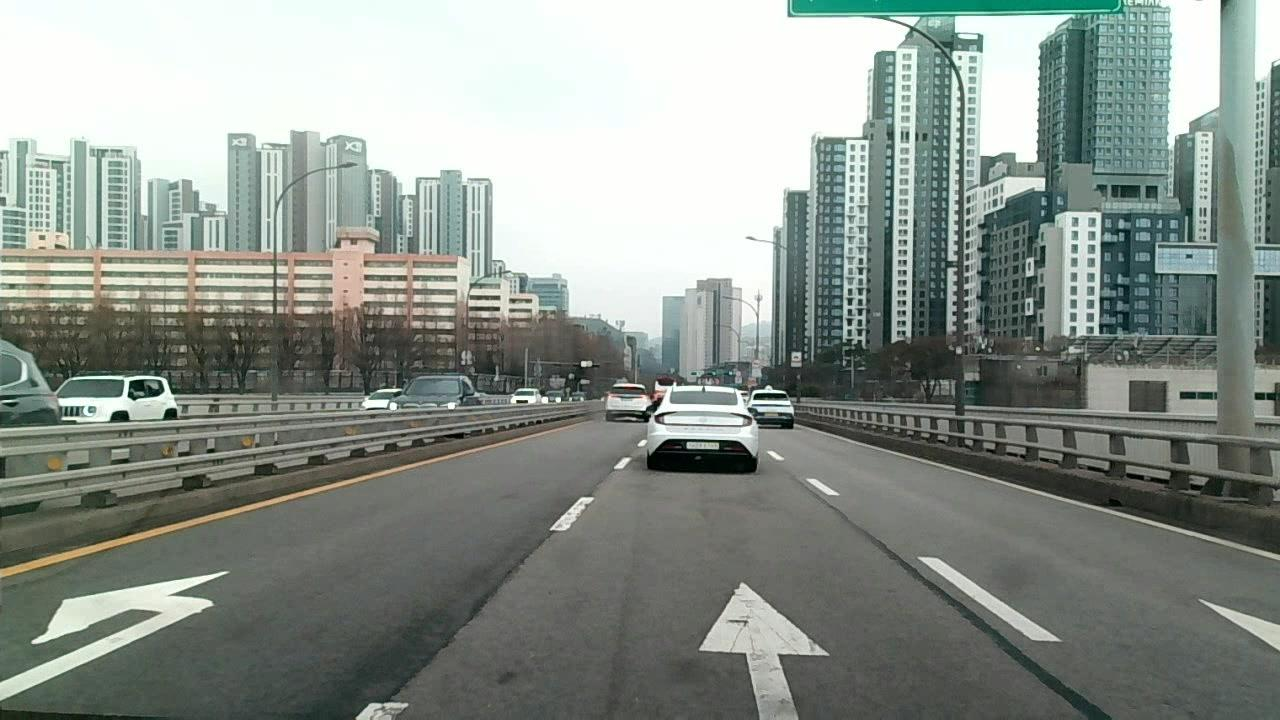vcrack: (909, 573, 1093, 714), (351, 577, 505, 720), (803, 488, 905, 570), (505, 531, 563, 580)
